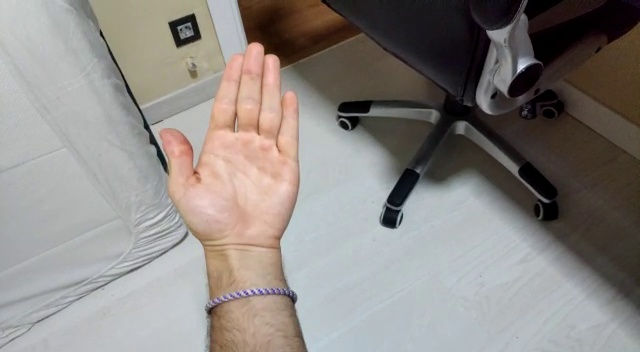Palm: (159, 43, 303, 252)
